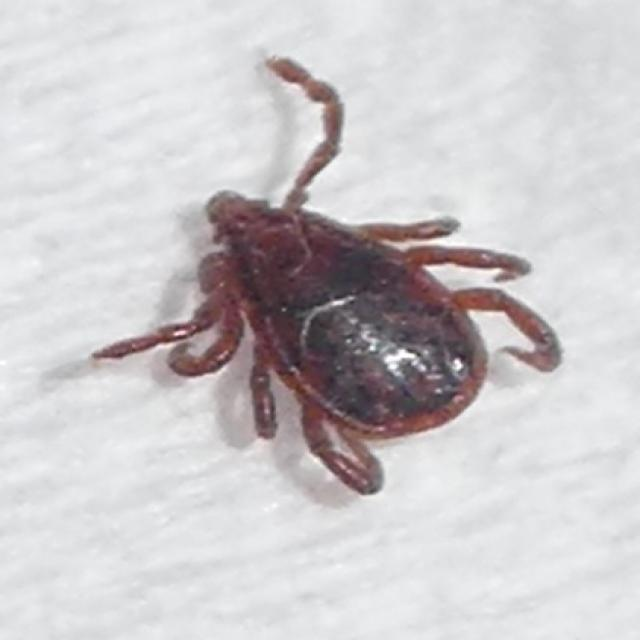Rhipicephalus Sanguineus-M: (91, 53, 564, 495)
